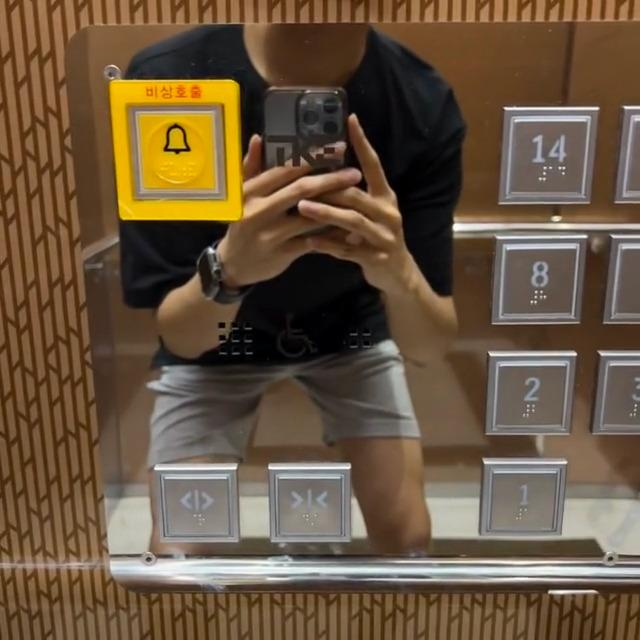button: (119, 81, 228, 212), (504, 110, 592, 211), (490, 353, 570, 448), (498, 237, 582, 327), (265, 465, 355, 547), (152, 465, 246, 542), (479, 455, 563, 541)
